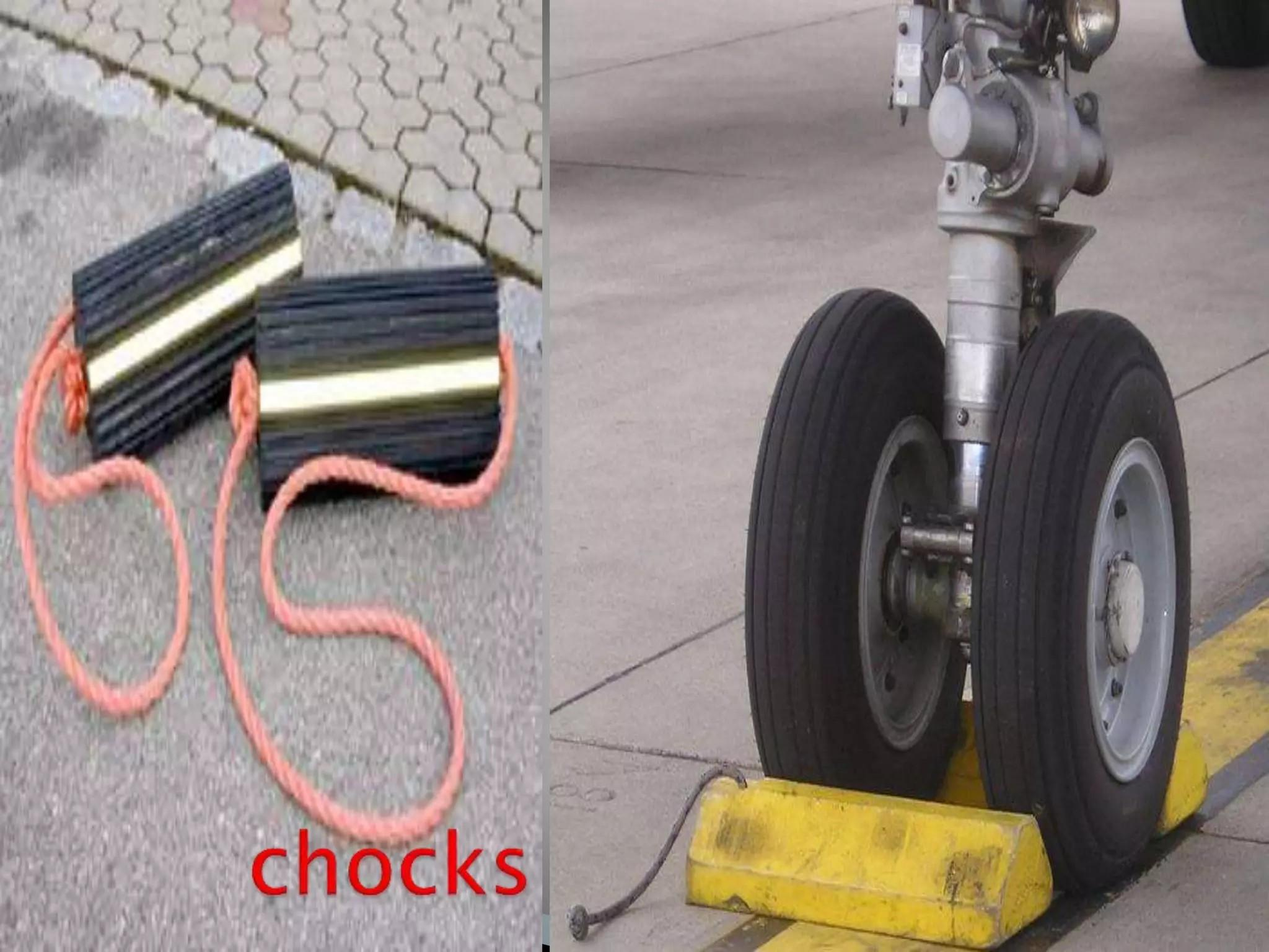boots: (69, 159, 309, 461), (680, 761, 1060, 940), (252, 265, 518, 509)
wheels: (973, 312, 1192, 894), (742, 288, 964, 806), (1179, 0, 1265, 65)
